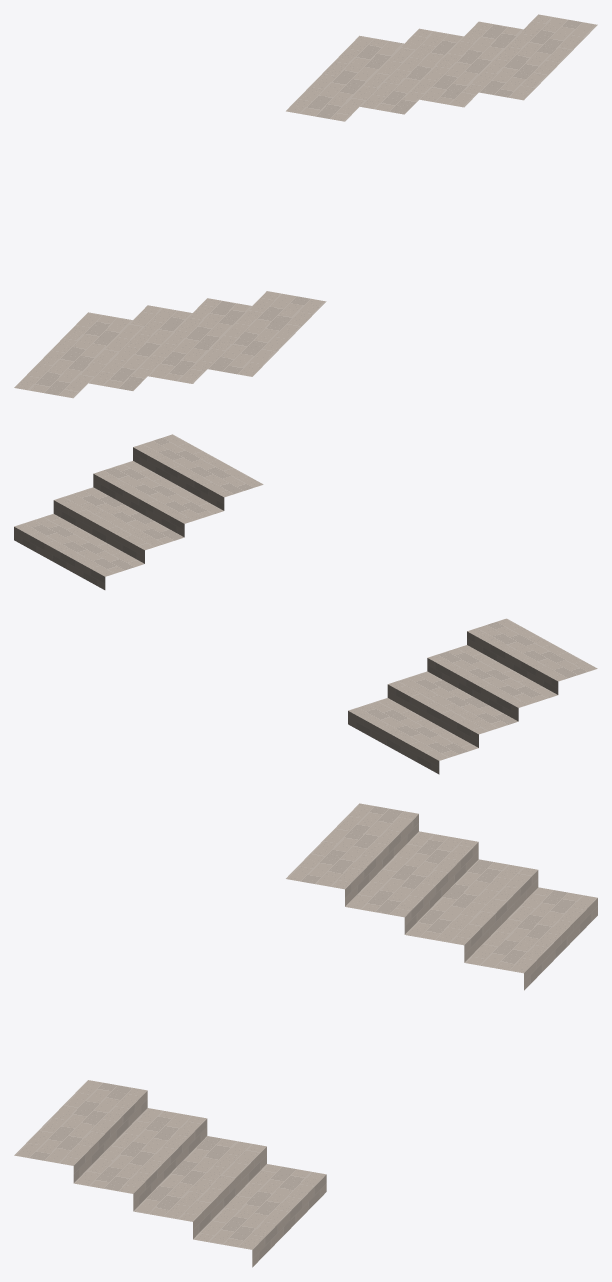
Rendered from kd_stage_135ebf_0_26.glb.
The picture shows the model from 3 angles, top to bottom: view 1: azimuth 90°, elevation 25°; view 2: azimuth 150°, elevation 25°; view 3: azimuth 270°, elevation 25°; orthographic projection. The views are drawn at different scales.
Visible parts, largest first — view 1: kd_stage_135ebf_0_26; view 2: kd_stage_135ebf_0_26; view 3: kd_stage_135ebf_0_26.
Part boxes in pixels (<box>): kd_stage_135ebf_0_26: <box>14,14,597,398</box>; kd_stage_135ebf_0_26: <box>14,434,597,774</box>; kd_stage_135ebf_0_26: <box>14,803,597,1267</box>.
Size of the model in its own units: 7.22 by 0.6009 by 4.52.
1 material, 1 textured.
